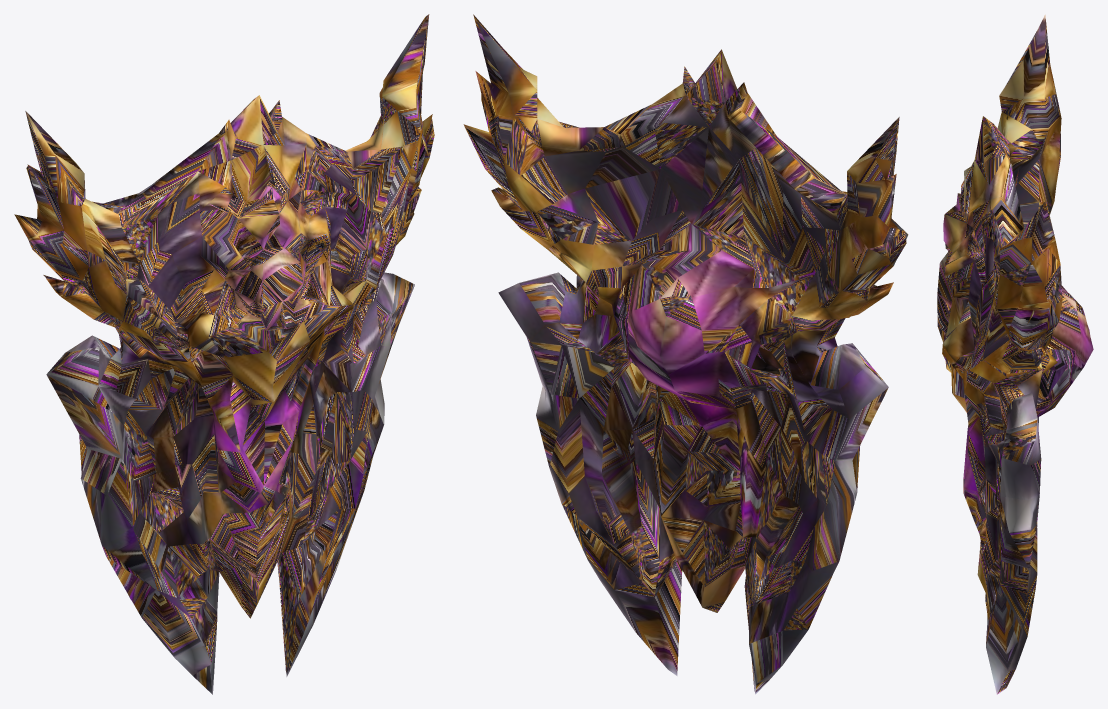
Rendered from 464_s_purple.glb.
The picture shows the model from 3 angles, left to right: view 1: azimuth 30°, elevation 25°; view 2: azimuth 150°, elevation 25°; view 3: azimuth 270°, elevation 25°; orthographic projection. The views are drawn at different scales.
Visible parts, largest first — view 1: Model; view 2: Model; view 3: Model.
Boxes of the visible parts, x1,y1,x2,y2 form: Model: (14, 14, 434, 694); Model: (463, 14, 908, 694); Model: (937, 14, 1093, 694).
Bounding box in the file's own units: 0.722 × 1 × 0.2475.
1 material, 1 textured.
